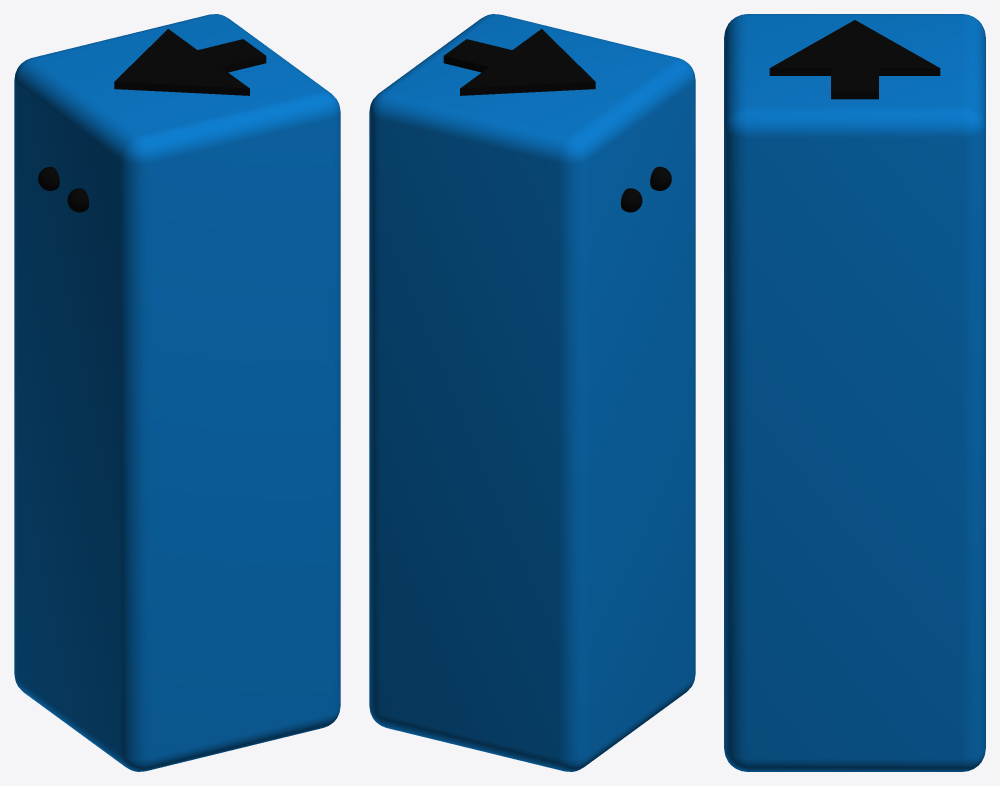
3 views of the same model, side by side, from view 1: azimuth 30°, elevation 25°; view 2: azimuth 150°, elevation 25°; view 3: azimuth 270°, elevation 25° (orthographic). The views are drawn at different scales.
Parts seen in each view (by area): view 1: Cube.018_Cube.002_Material.006, Cube.018_Cube.002_SVGMat; view 2: Cube.018_Cube.002_Material.006, Cube.018_Cube.002_SVGMat; view 3: Cube.018_Cube.002_Material.006, Cube.018_Cube.002_SVGMat.
Boxes of the visible parts, left/top/right/bottom form: Cube.018_Cube.002_Material.006: left=14, top=14, right=340, bottom=771; Cube.018_Cube.002_SVGMat: left=38, top=29, right=266, bottom=212; Cube.018_Cube.002_Material.006: left=369, top=14, right=695, bottom=771; Cube.018_Cube.002_SVGMat: left=443, top=29, right=671, bottom=212; Cube.018_Cube.002_Material.006: left=724, top=14, right=985, bottom=771; Cube.018_Cube.002_SVGMat: left=769, top=20, right=940, bottom=99.
Size of the model in its own units: 0.1904 by 0.5061 by 0.1785.
